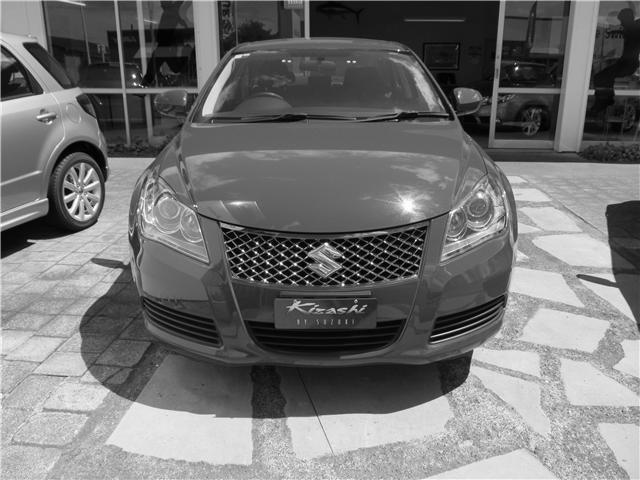car: (127, 37, 521, 371)
